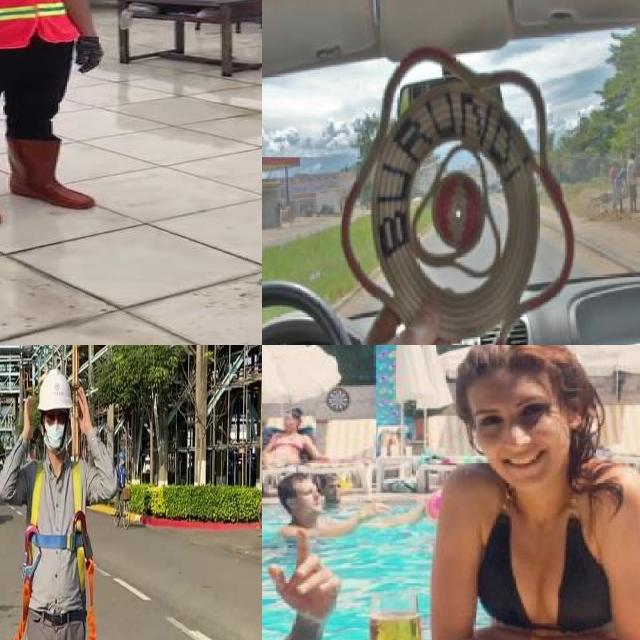Harness: (16, 462, 98, 640)
No_Ear-Protection: (562, 394, 588, 429)
No_Glasses: (462, 387, 559, 438)
boots: (0, 134, 104, 213)
face_nomask: (476, 402, 556, 473), (293, 483, 325, 515)
hand_glove: (70, 35, 100, 74)
hand_noglove: (262, 526, 347, 620), (355, 284, 469, 345)
head_nohelmet: (459, 345, 556, 382), (282, 466, 314, 487)
person: (409, 345, 640, 640), (0, 0, 110, 226)
